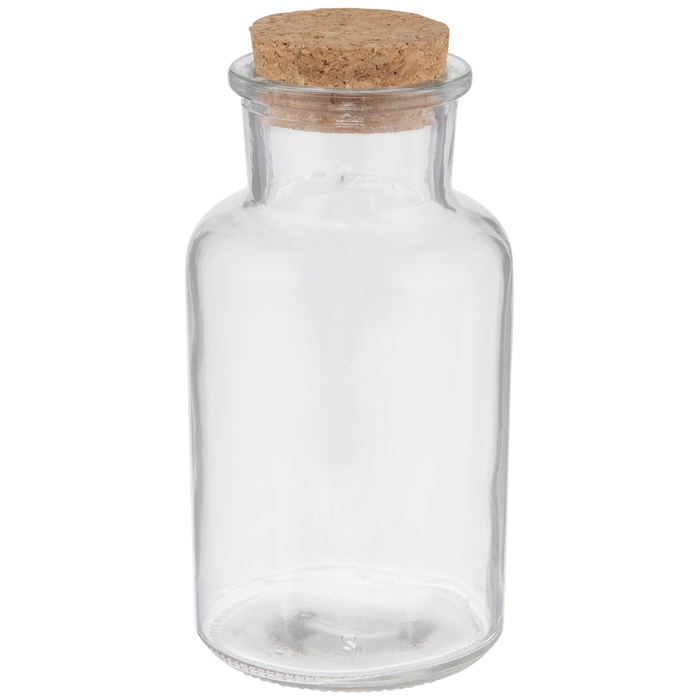glass_bottle: (182, 2, 517, 692)
